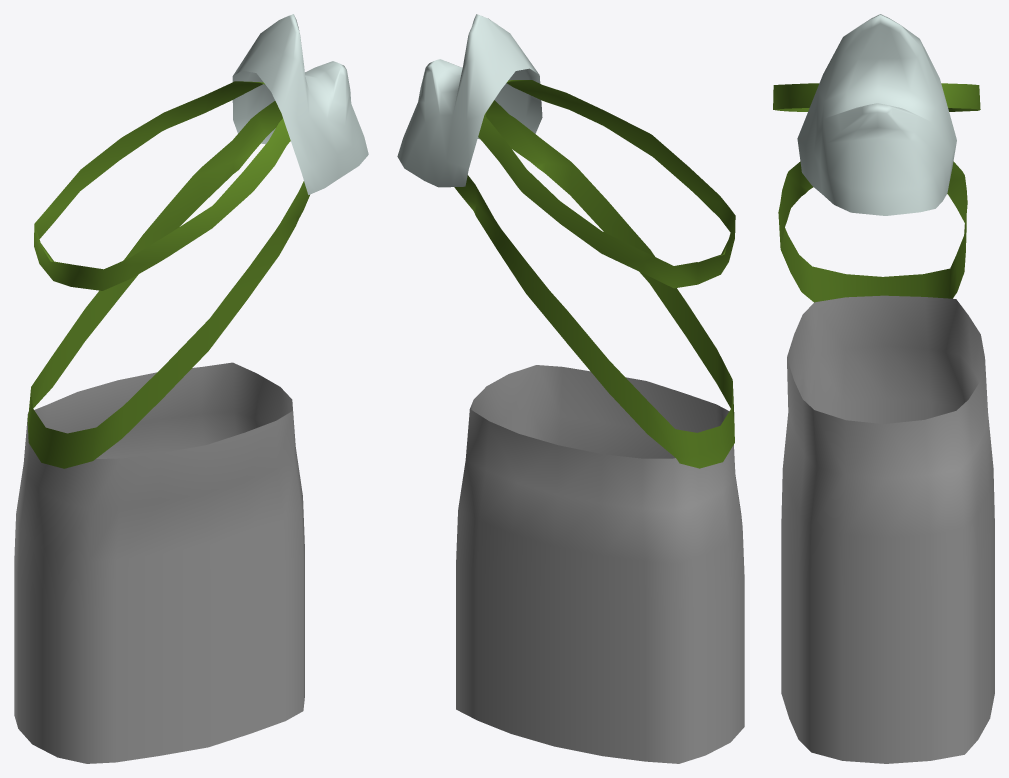
The model's file is BarbM.fbx.
3 renders of one model, left to right at view 1: azimuth 30°, elevation 25°; view 2: azimuth 150°, elevation 25°; view 3: azimuth 270°, elevation 25°, orthographic. The views are drawn at different scales.
Parts seen in each view (by area): view 1: BarbSkirt, BarbStrapLow, BarbShoulder, BarbStrapHigh; view 2: BarbSkirt, BarbStrapLow, BarbShoulder, BarbStrapHigh; view 3: BarbSkirt, BarbShoulder, BarbStrapLow, BarbStrapHigh.
Part boxes in pixels (x1,y1,x2,y2): BarbSkirt: (14,362,304,763); BarbStrapLow: (27,101,309,468); BarbShoulder: (232,14,368,194); BarbStrapHigh: (34,81,290,290); BarbSkirt: (456,365,744,763); BarbStrapLow: (454,100,734,468); BarbShoulder: (397,14,542,187); BarbStrapHigh: (478,80,735,288); BarbSkirt: (781,295,994,763); BarbShoulder: (797,14,956,215); BarbStrapLow: (778,161,967,302); BarbStrapHigh: (773,83,980,111).
Size of the model in its own units: 6.09 by 11.87 by 3.19.
